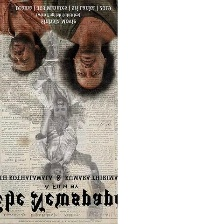news_paper: (0, 0, 117, 224)
